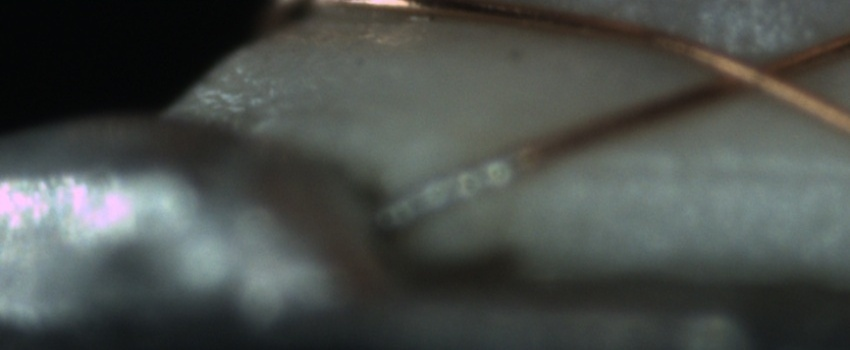CL: (692, 42, 824, 103)
DL: (555, 142, 848, 203)
TS: (373, 154, 523, 230)
